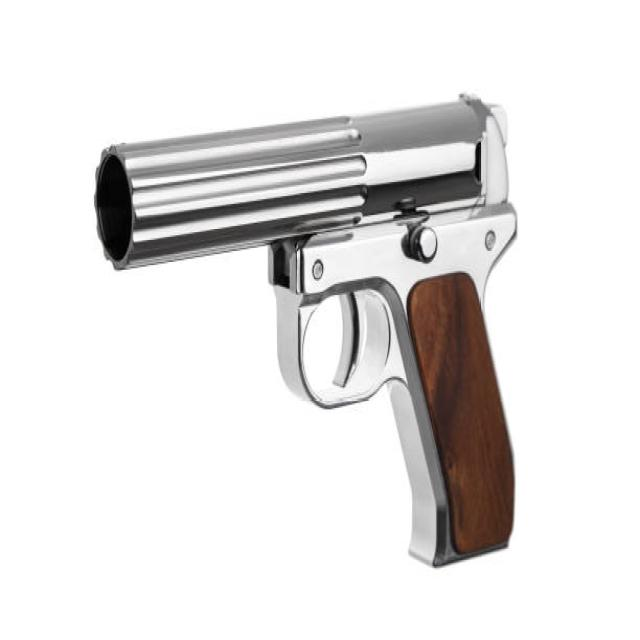pistol: (89, 82, 527, 577)
